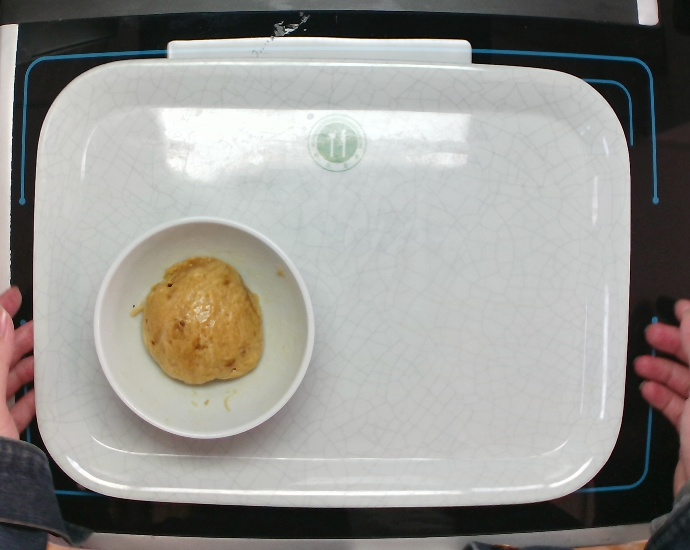JYsf-Fan_Wan: (89, 213, 319, 442)
